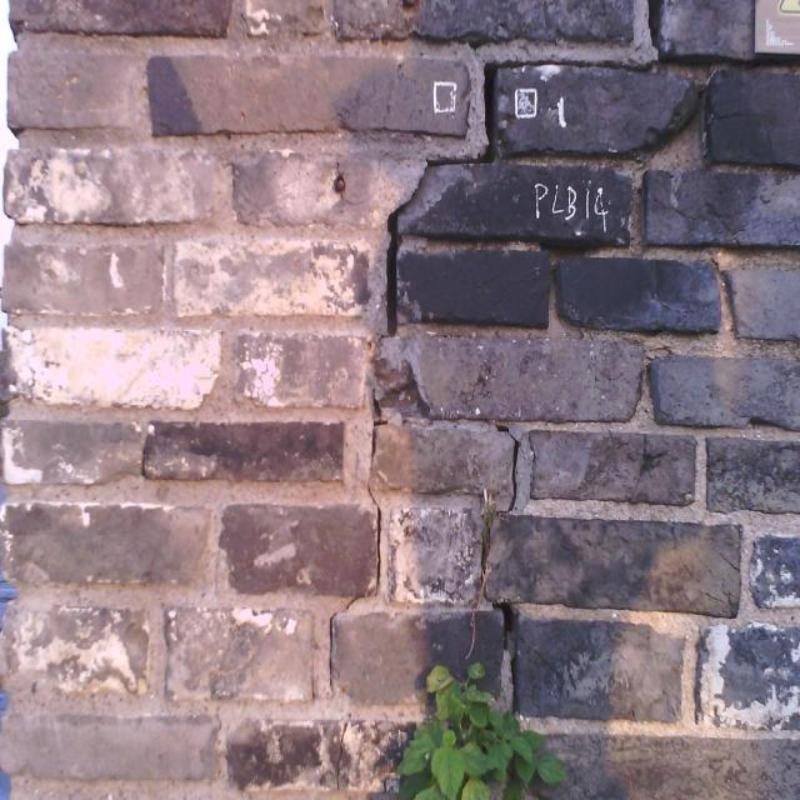pothole: (411, 60, 656, 199), (346, 486, 381, 609), (386, 200, 411, 335), (496, 426, 520, 512), (493, 603, 516, 687), (648, 0, 662, 48), (338, 723, 348, 788), (372, 421, 388, 457), (329, 612, 336, 686), (372, 388, 382, 416)
